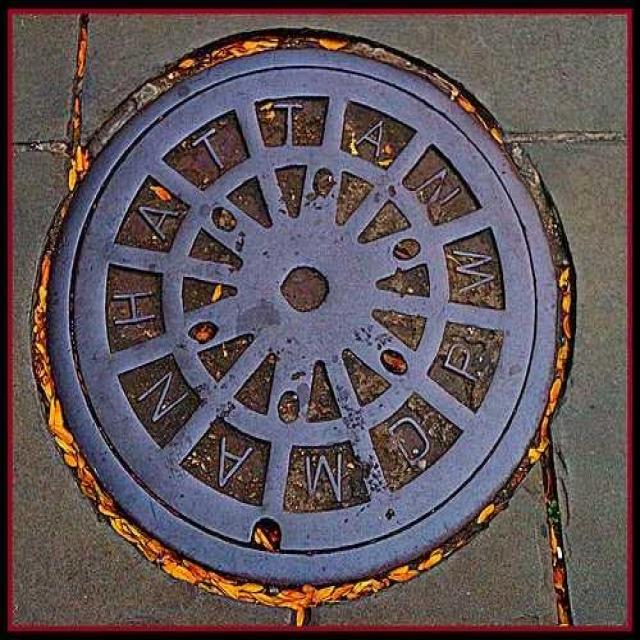manhole: (49, 46, 556, 585)
